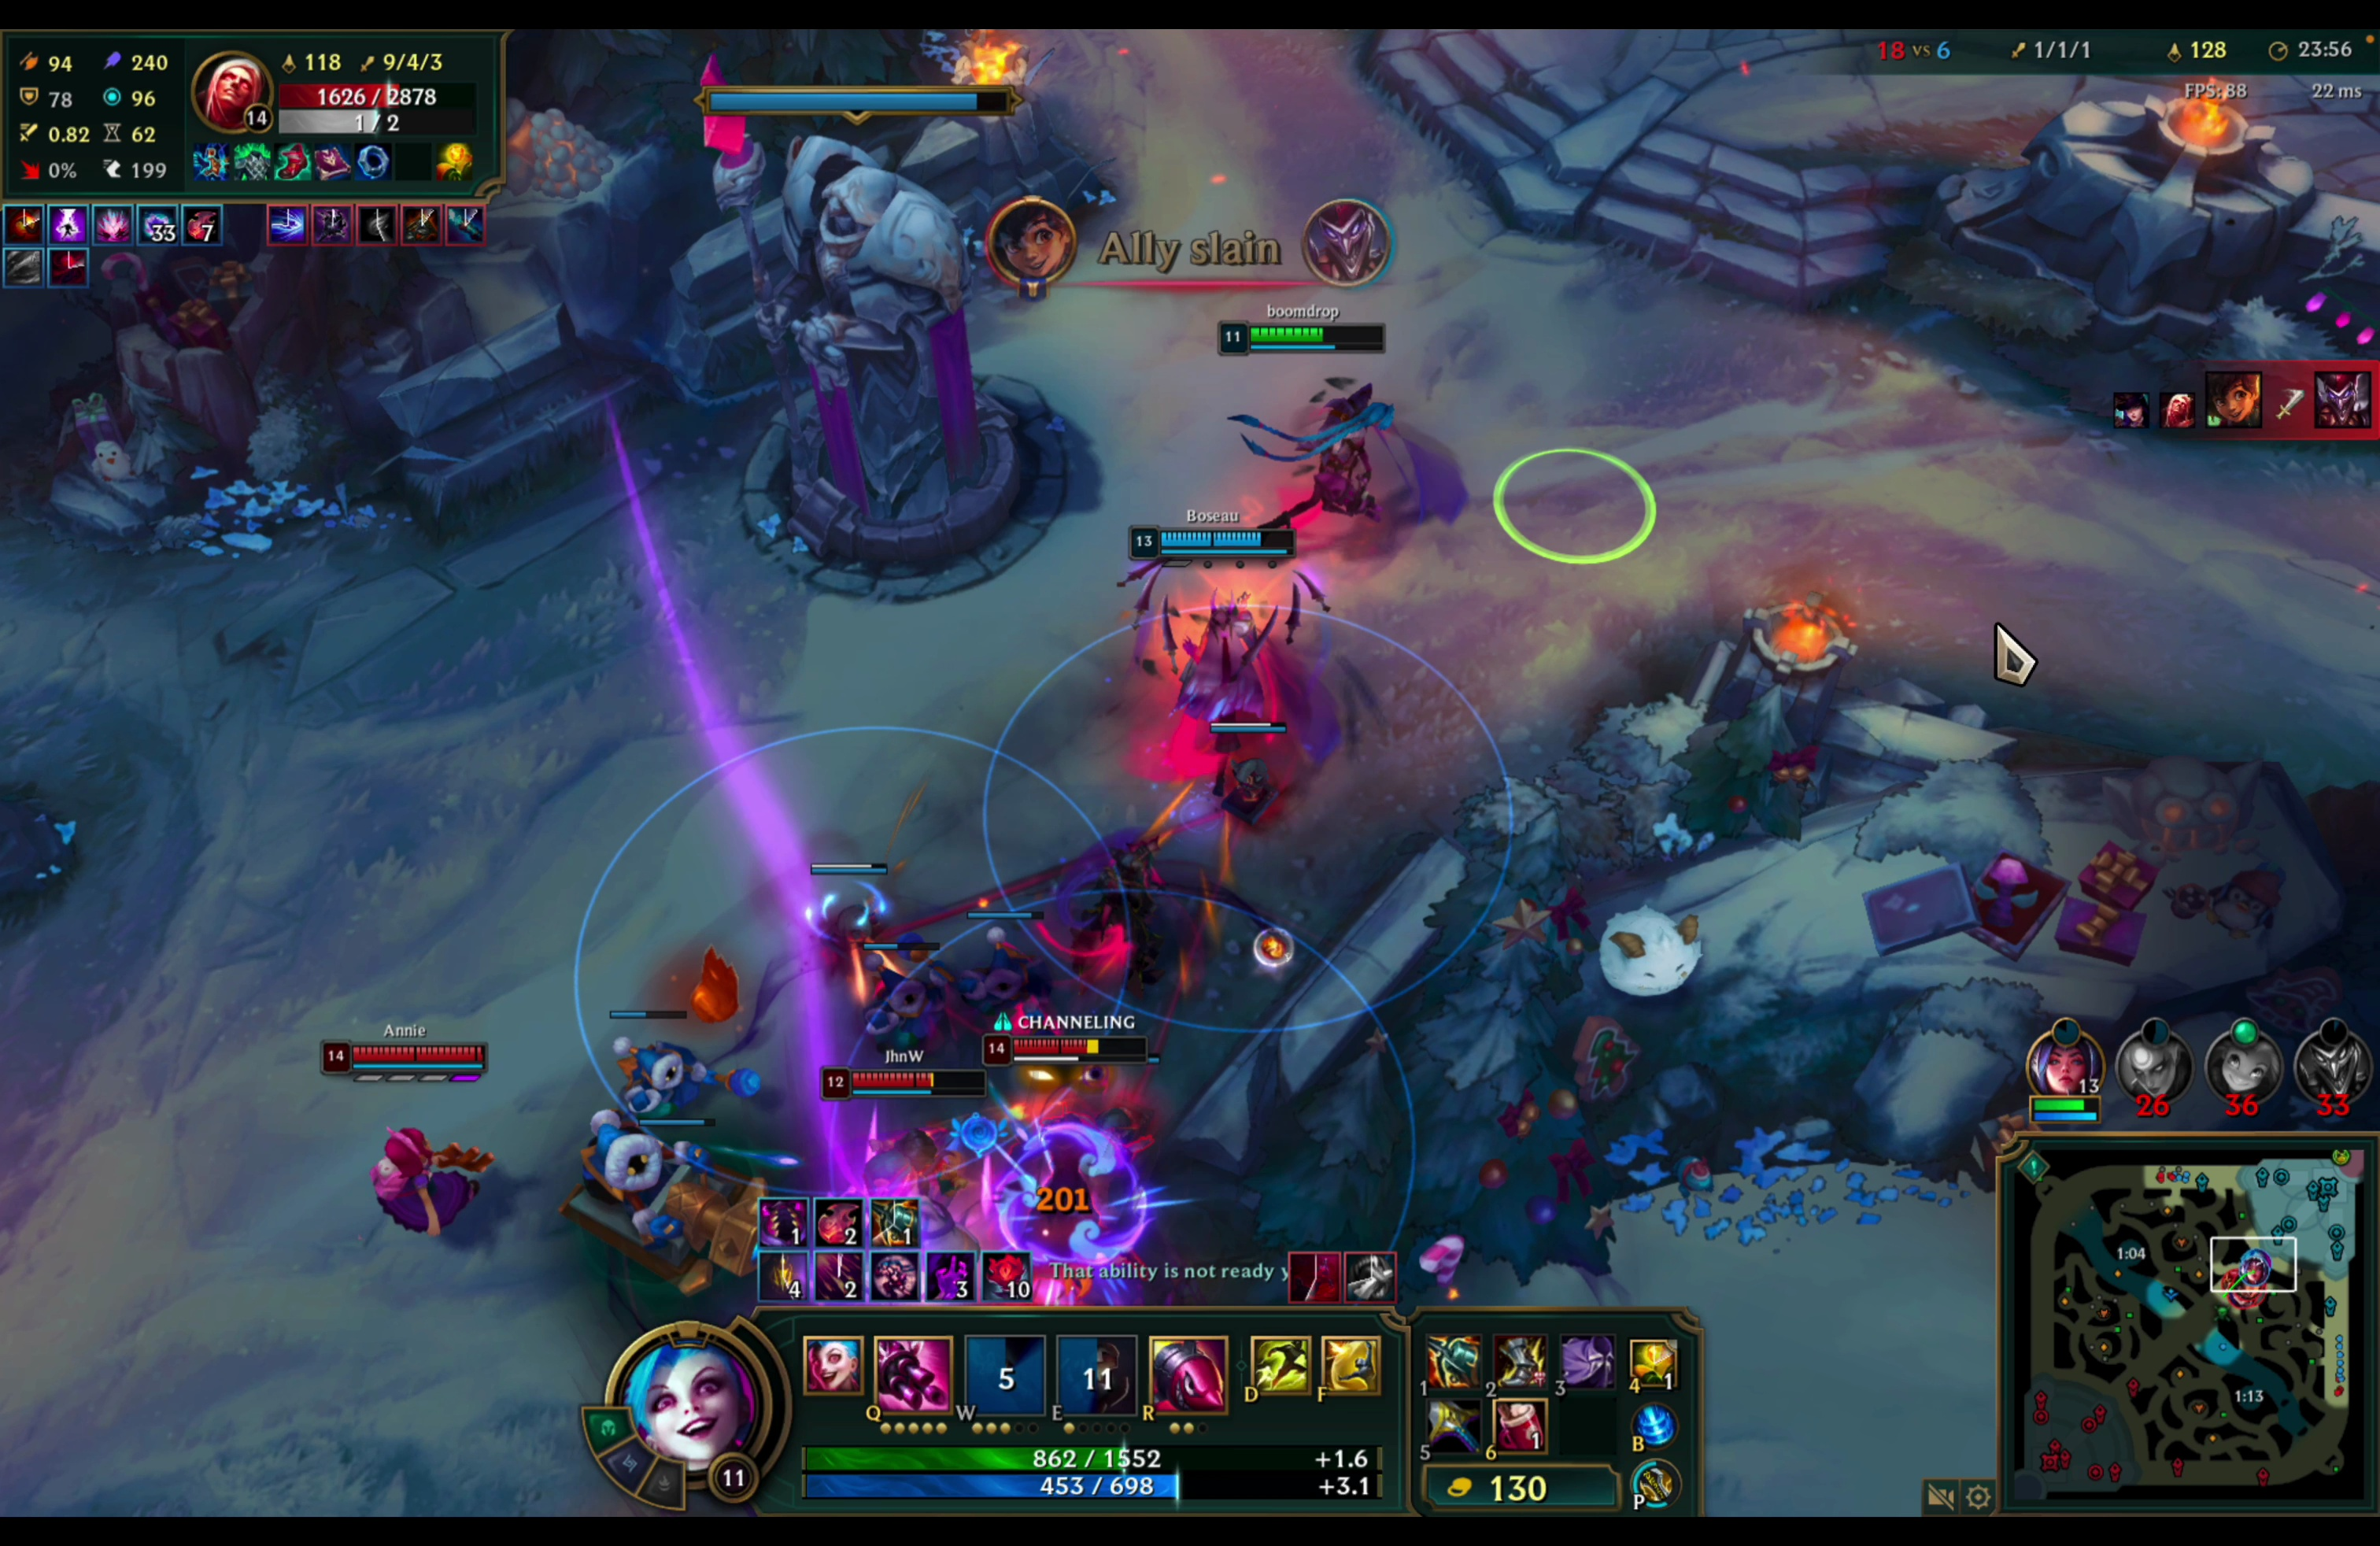JINX_W_IMPACT: (963, 1003, 1226, 1293)
